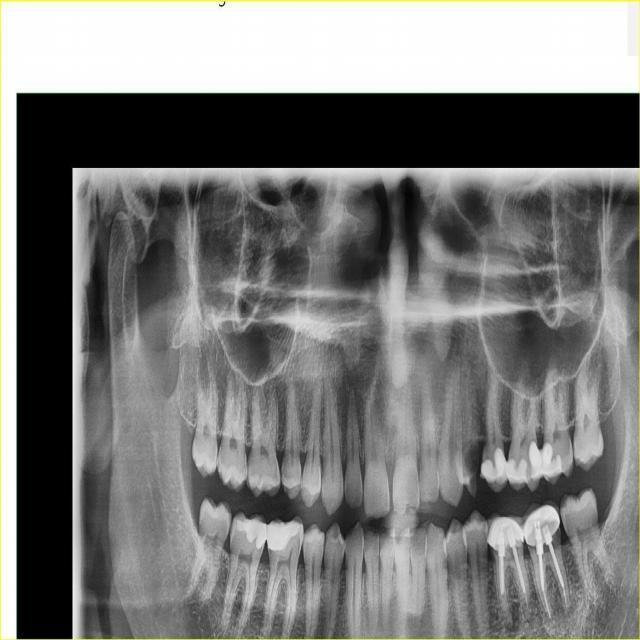Caries: (461, 442, 479, 497), (394, 502, 417, 517), (280, 461, 287, 481), (213, 449, 218, 472), (296, 538, 302, 556), (275, 464, 280, 484), (344, 481, 349, 498), (568, 441, 573, 454), (230, 527, 235, 540), (574, 444, 576, 453)
Crown: (522, 499, 560, 546), (486, 513, 523, 549)
Filling: (480, 449, 507, 494), (236, 513, 267, 549), (267, 520, 299, 551), (540, 442, 562, 482), (506, 458, 530, 492), (528, 442, 543, 481)
Periapical lesion: (502, 600, 521, 634)
Root Canal Treatment: (542, 590, 550, 617), (524, 591, 528, 608), (563, 587, 566, 604)
